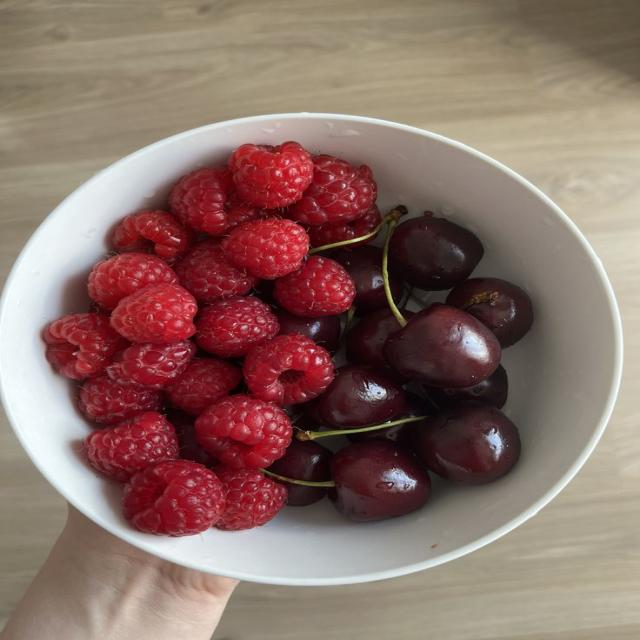cherry: (383, 303, 500, 386), (414, 402, 520, 484), (329, 440, 430, 521), (390, 212, 483, 290), (445, 277, 533, 349), (320, 365, 404, 427), (332, 244, 387, 314), (389, 273, 402, 303)
raspberry: (123, 460, 226, 536), (195, 395, 292, 469), (85, 412, 178, 482), (243, 334, 334, 405), (287, 155, 376, 224), (229, 142, 313, 208), (221, 218, 309, 279), (44, 314, 126, 379), (174, 239, 258, 302), (111, 284, 197, 343), (195, 297, 279, 357), (88, 253, 178, 309), (274, 256, 355, 317), (215, 468, 287, 530), (107, 340, 196, 388), (166, 359, 241, 415), (169, 168, 230, 236), (114, 210, 193, 262), (80, 375, 163, 424), (307, 205, 381, 246), (167, 409, 218, 468), (225, 194, 276, 232)
